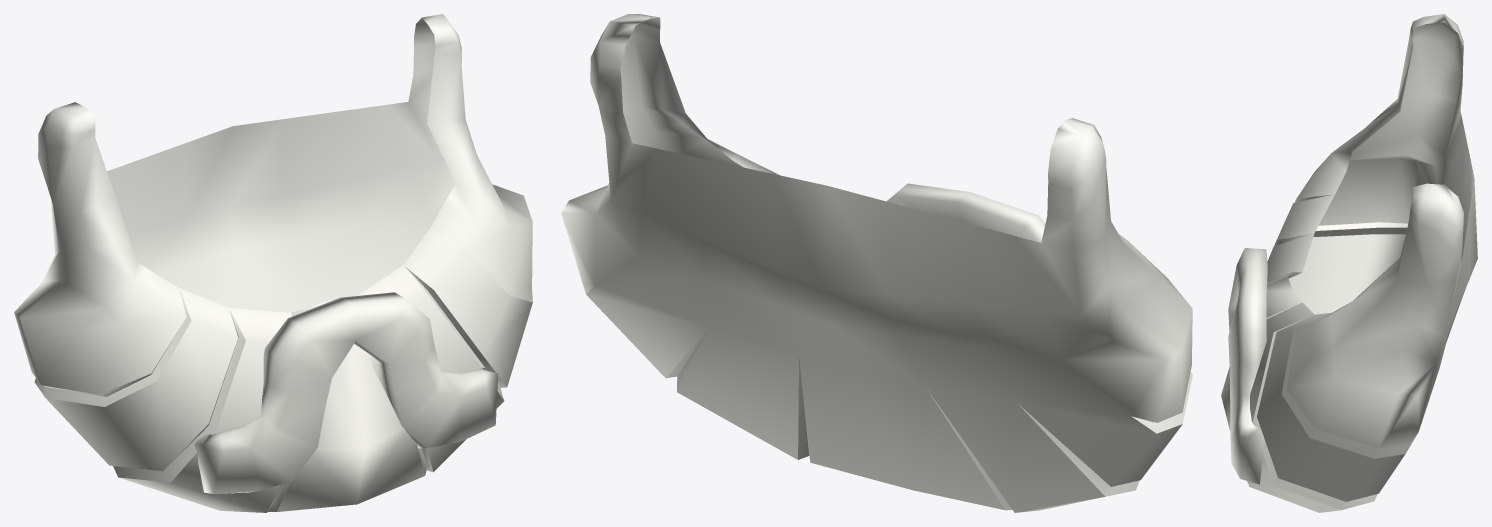
File: Beard_White_17.fbx
3 views of the same model, side by side, from view 1: azimuth 30°, elevation 25°; view 2: azimuth 150°, elevation 25°; view 3: azimuth 270°, elevation 25° (orthographic). The views are drawn at different scales.
Parts seen in each view (by area): view 1: Beard_White_17; view 2: Beard_White_17; view 3: Beard_White_17.
Part boxes in pixels (x1,y1,x2,y2): Beard_White_17: (14,14,532,512); Beard_White_17: (561,14,1192,512); Beard_White_17: (1221,14,1477,512).
Size of the model in its own units: 64.08 by 47.7 by 29.49.
